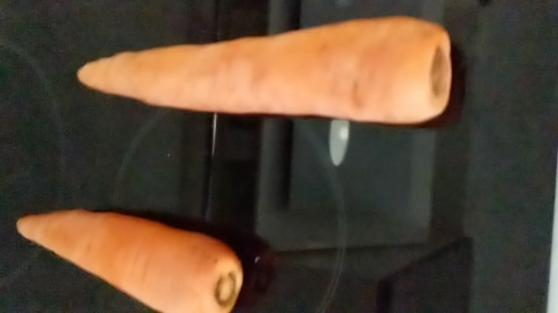carrot: (72, 16, 450, 120), (15, 210, 249, 312)
